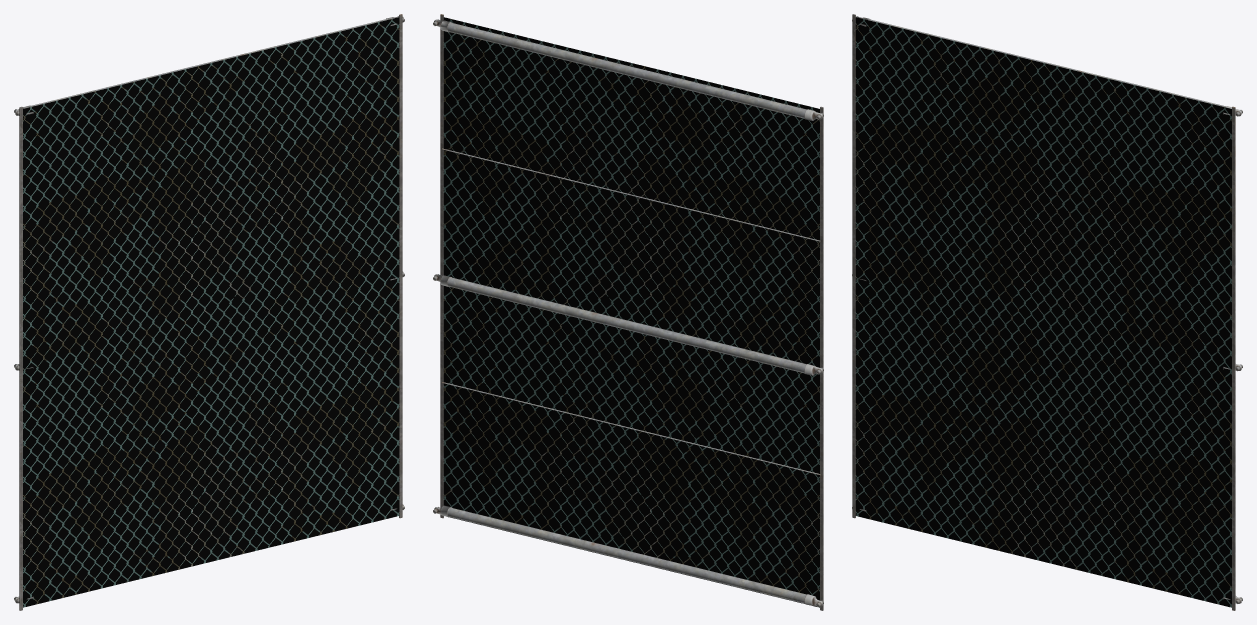
File: modular_chainlink_fence_web.gltf
3 renders of one model, left to right at view 1: azimuth 30°, elevation 25°; view 2: azimuth 150°, elevation 25°; view 3: azimuth 330°, elevation 25°, orthographic.
Visible parts, largest first — view 1: modular_chainlink_fence_double; view 2: modular_chainlink_fence_double; view 3: modular_chainlink_fence_double.
Part boxes in pixels (box(x1,y1,x2,y2)): modular_chainlink_fence_double: box(14, 14, 404, 610); modular_chainlink_fence_double: box(433, 14, 823, 610); modular_chainlink_fence_double: box(852, 14, 1242, 610).
Size of the model in its own units: 1.91 by 2.37 by 0.0481.
2 materials, 2 textured.
